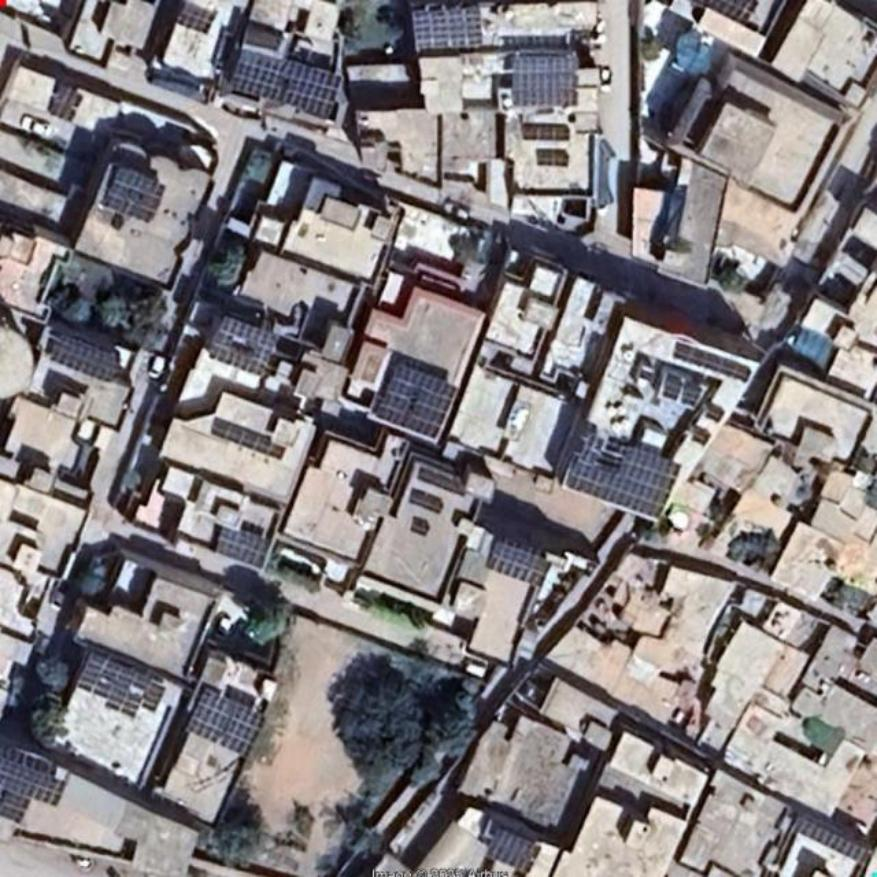Solarpanel: (564, 431, 680, 524), (225, 47, 344, 116), (77, 652, 166, 726), (374, 365, 457, 439), (186, 683, 267, 755), (209, 316, 281, 377), (790, 818, 869, 865), (104, 165, 168, 222), (517, 49, 577, 103), (51, 335, 119, 381), (485, 541, 553, 587), (414, 6, 484, 49), (484, 829, 536, 871), (697, 2, 761, 25), (176, 0, 217, 34), (47, 86, 84, 119), (1, 792, 30, 824)
